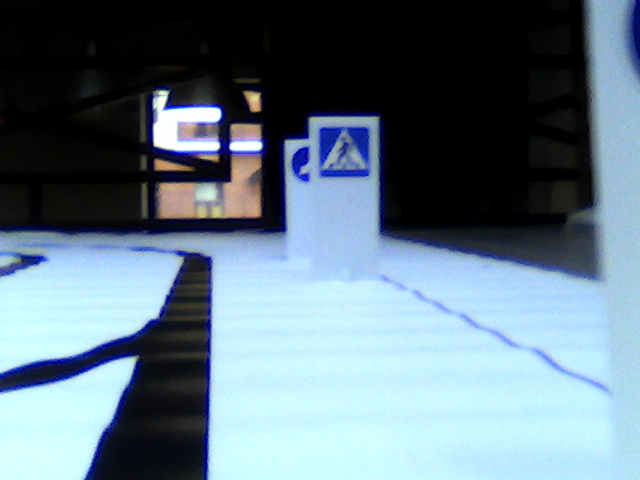pesh: (318, 125, 372, 177)
